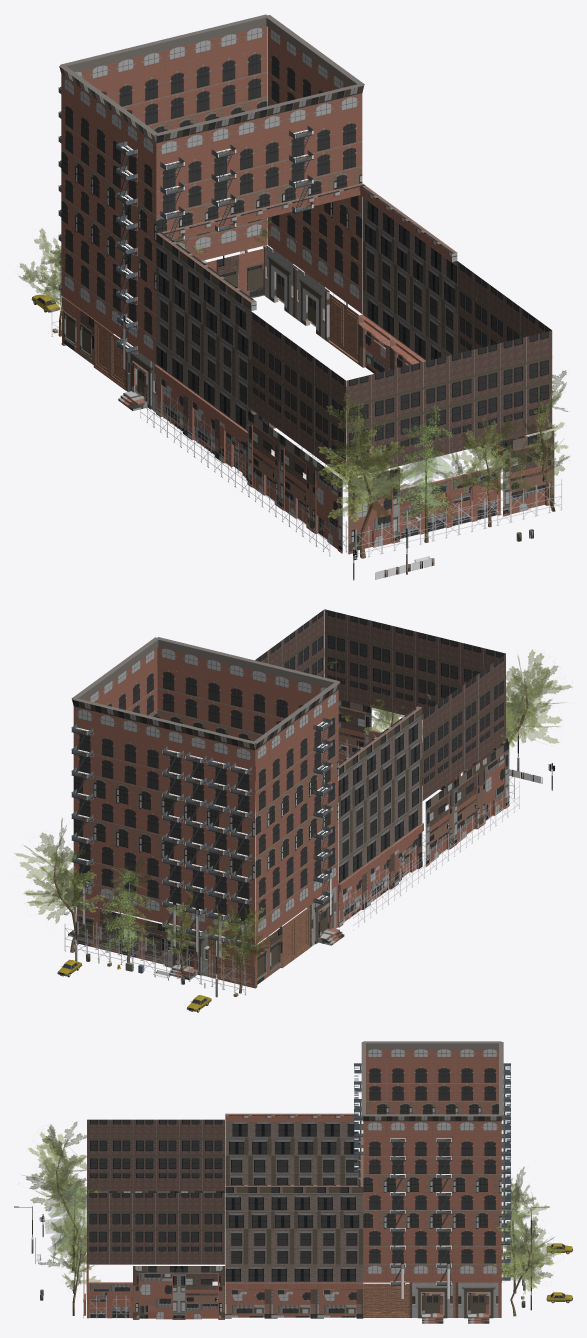
The model's file is proc3_03.gltf.
3 renders of one model, top to bottom at view 1: azimuth 30°, elevation 25°; view 2: azimuth 150°, elevation 25°; view 3: azimuth 270°, elevation 25°, orthographic. The views are drawn at different scales.
Visible parts, largest first — view 1: proc3_03; view 2: proc3_03; view 3: proc3_03.
Boxes of the visible parts, left/top/right/bottom form: proc3_03: left=18, top=14, right=569, bottom=580; proc3_03: left=14, top=609, right=572, bottom=1012; proc3_03: left=14, top=1041, right=572, bottom=1323.
Size of the model in its own units: 38.61 by 34.04 by 84.86.
16 materials, 15 textured.
